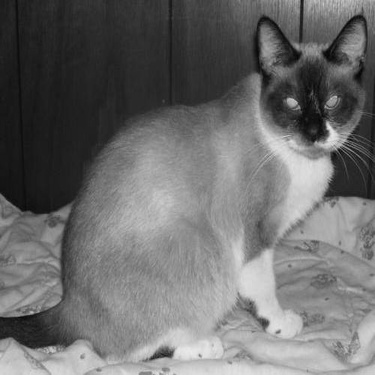cat: (1, 17, 362, 360)
